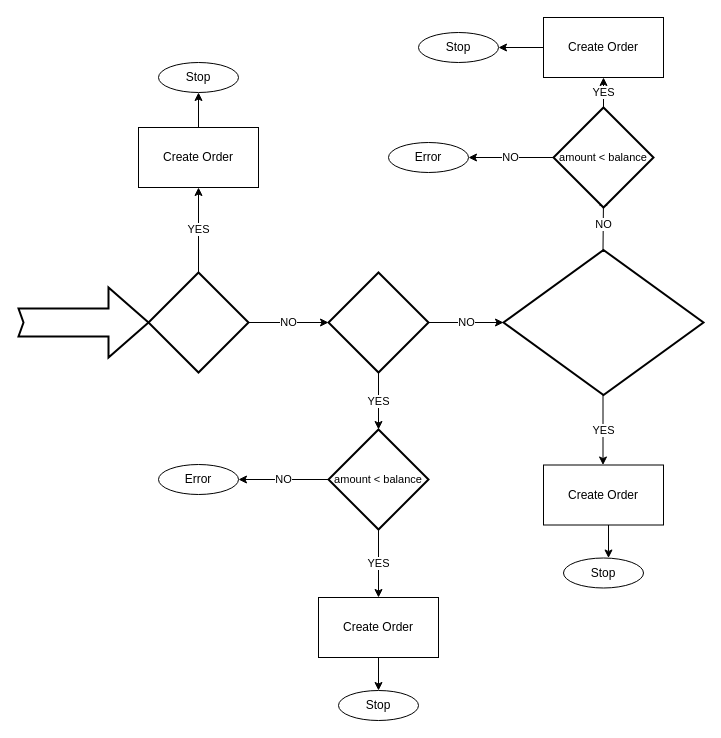
Image size: 721x738. Some labels were removed from this diagram. The shapes that lost their labels are listed below. From the top down, each one's centre as x and y in pixels, then its label:
[83,322]: (costomer, order)
[198,322]: isVip
[378,322]: age < 18
[603,322]: remainingLicenseDays>365
